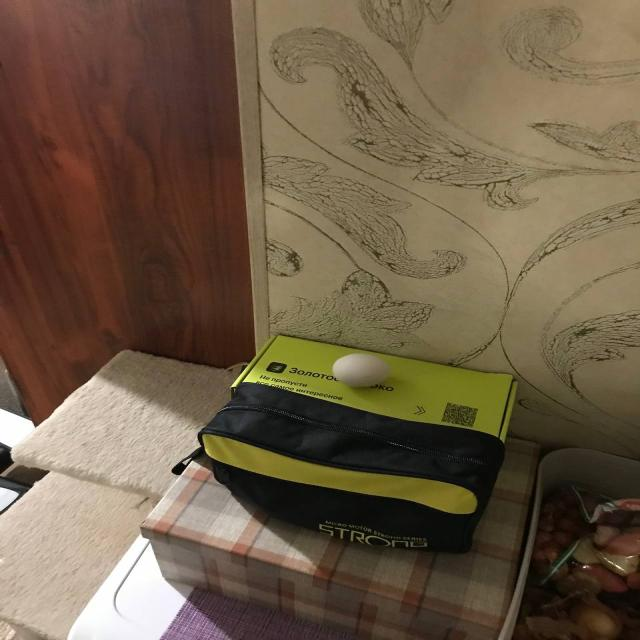egg: (332, 354, 390, 388)
